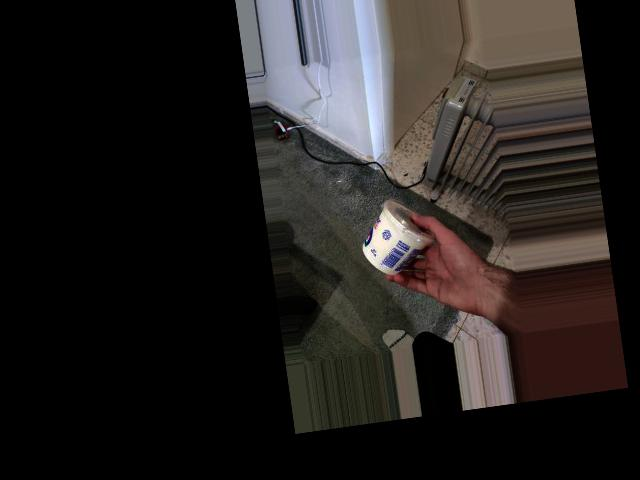cotage: (355, 191, 440, 283)
